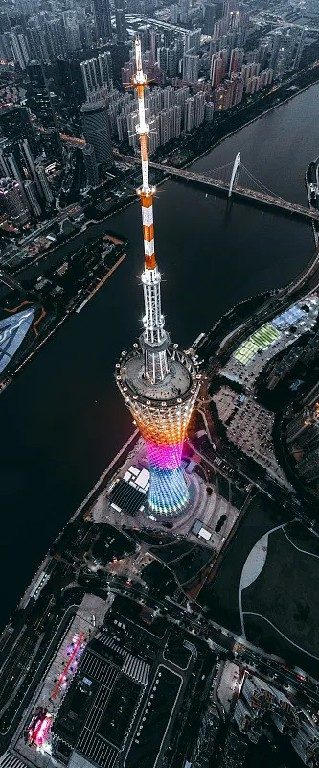Canton: (110, 32, 203, 522)
